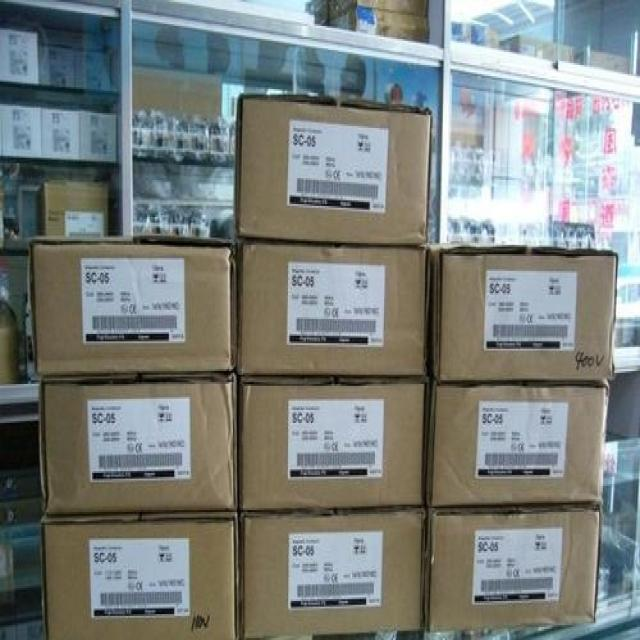box: (38, 366, 238, 516), (236, 93, 431, 246), (27, 235, 236, 374), (235, 366, 429, 509), (236, 235, 430, 375), (427, 246, 618, 383), (426, 367, 609, 507), (41, 511, 239, 638), (238, 505, 426, 638), (423, 502, 602, 631)
